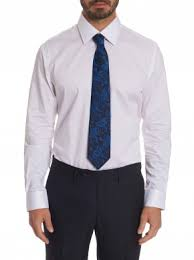F_shirt: (16, 18, 175, 212)
F_tie: (88, 29, 112, 168)
